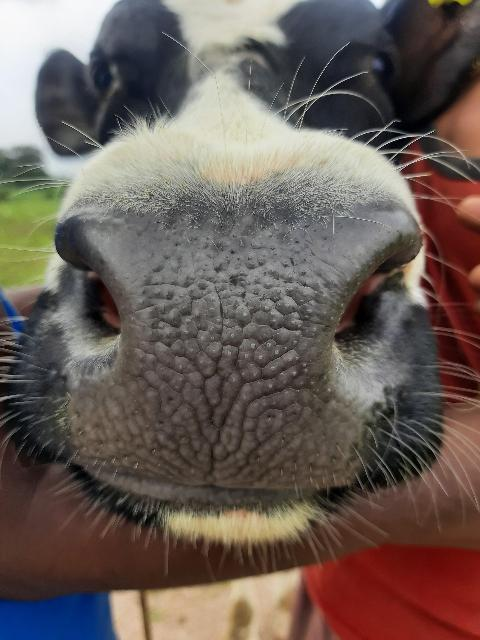Muzzle: (86, 214, 338, 483)
